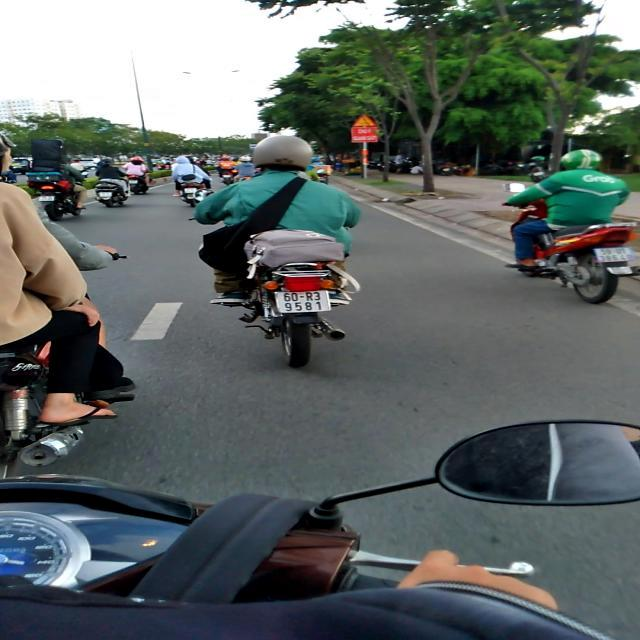Di cham: (351, 114, 378, 128)
